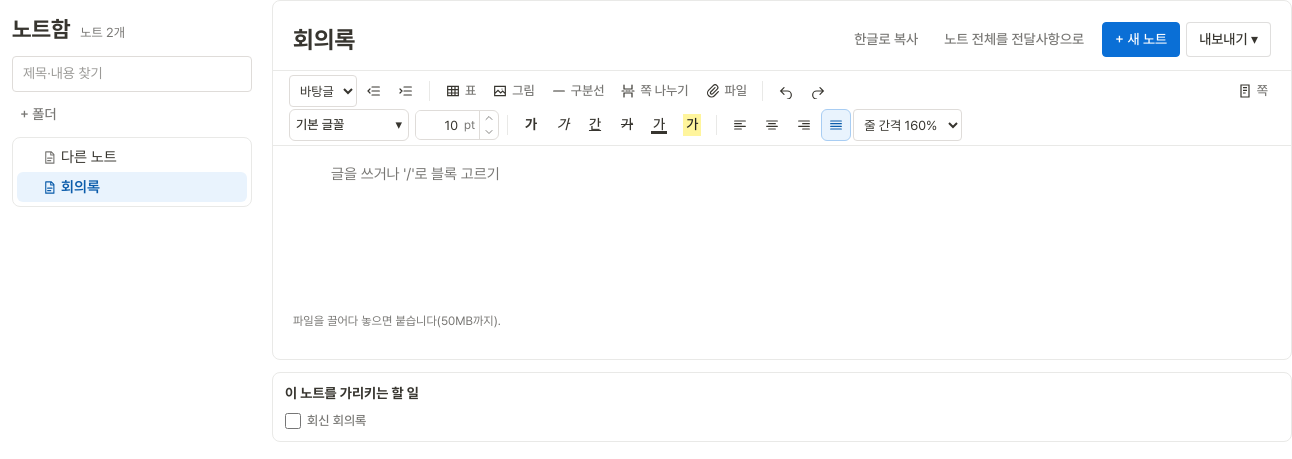
Test: 폴더 블록: 옛 exe·HTML판이면 새 exe 안내
Check: the field showing "회의록" is shown, box [293, 17, 834, 62]
Step 1. Click the field named "블록" → (800, 174), box [329, 159, 1271, 189]
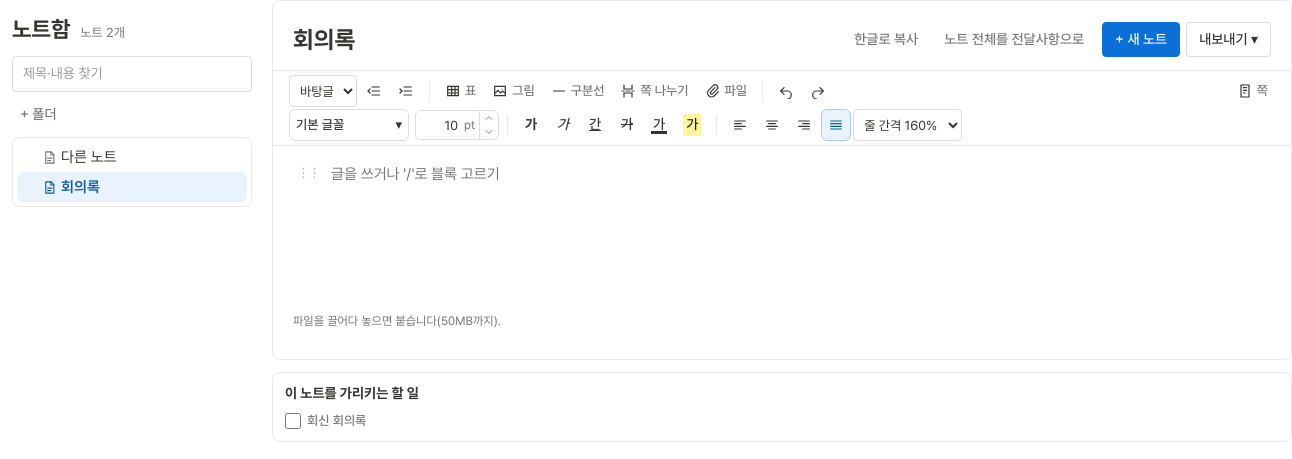
Step 2. Type keys "/폴"
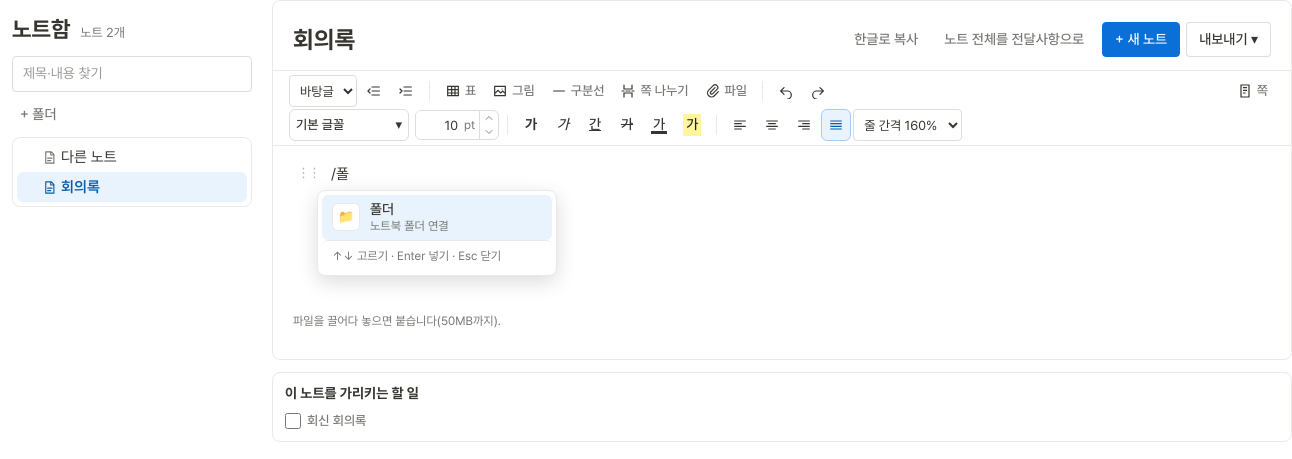
Step 3. Press Enter
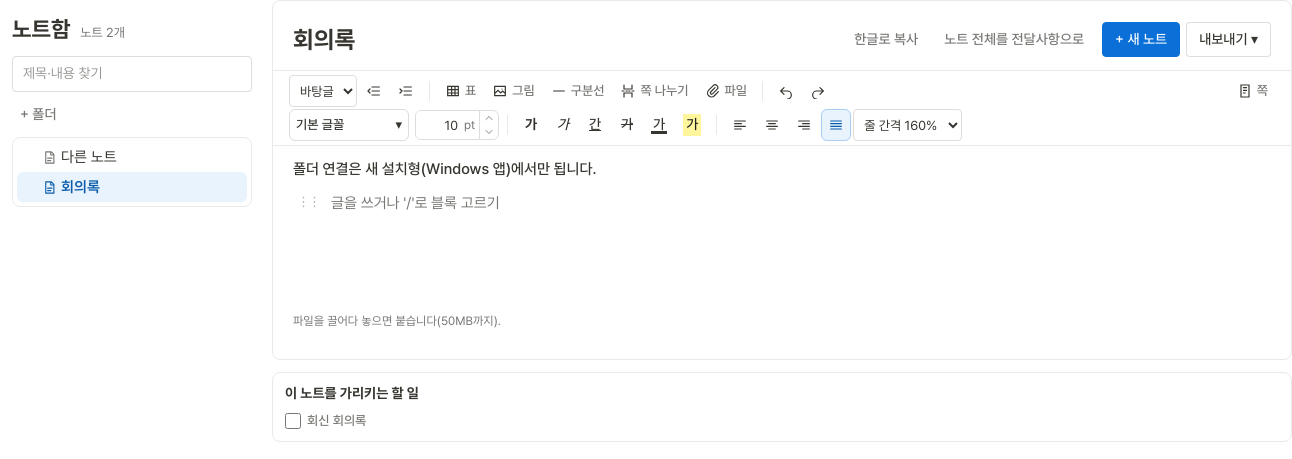
Check: the text "폴더 연결은 새 설치형(Windows 앱)에서만 됩니다." is shown, box [293, 160, 596, 178]
